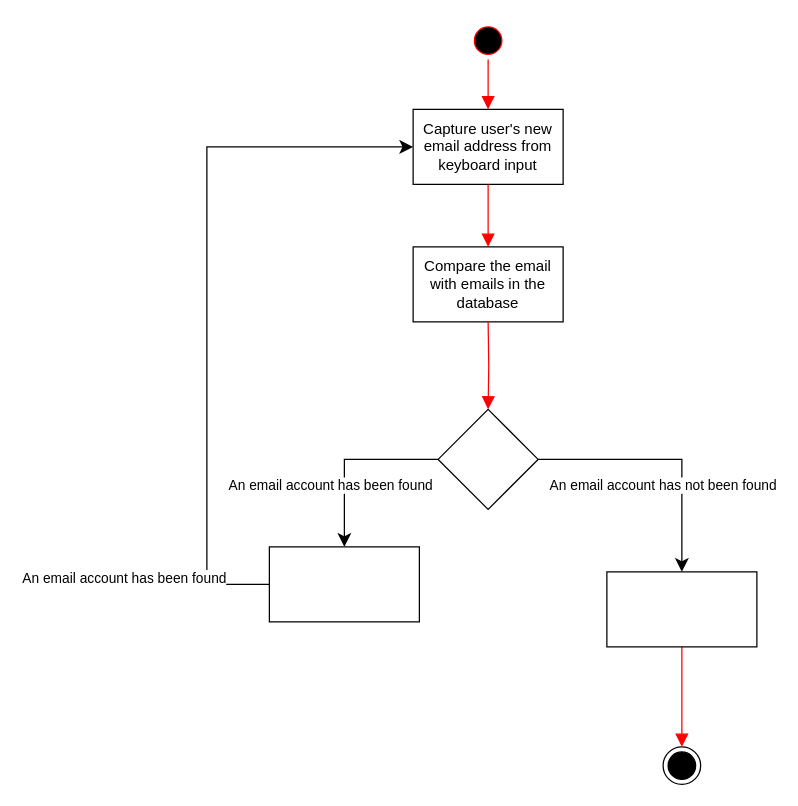
Some shapes in this 798 by 806 pixel diagram are drawn without their labels. The box of each missing label's shape, as (x1, y1, x2, y2) in pixels:
Change the email address in the database: (606, 571, 757, 647)
throw a error and clear form: (268, 546, 419, 622)
